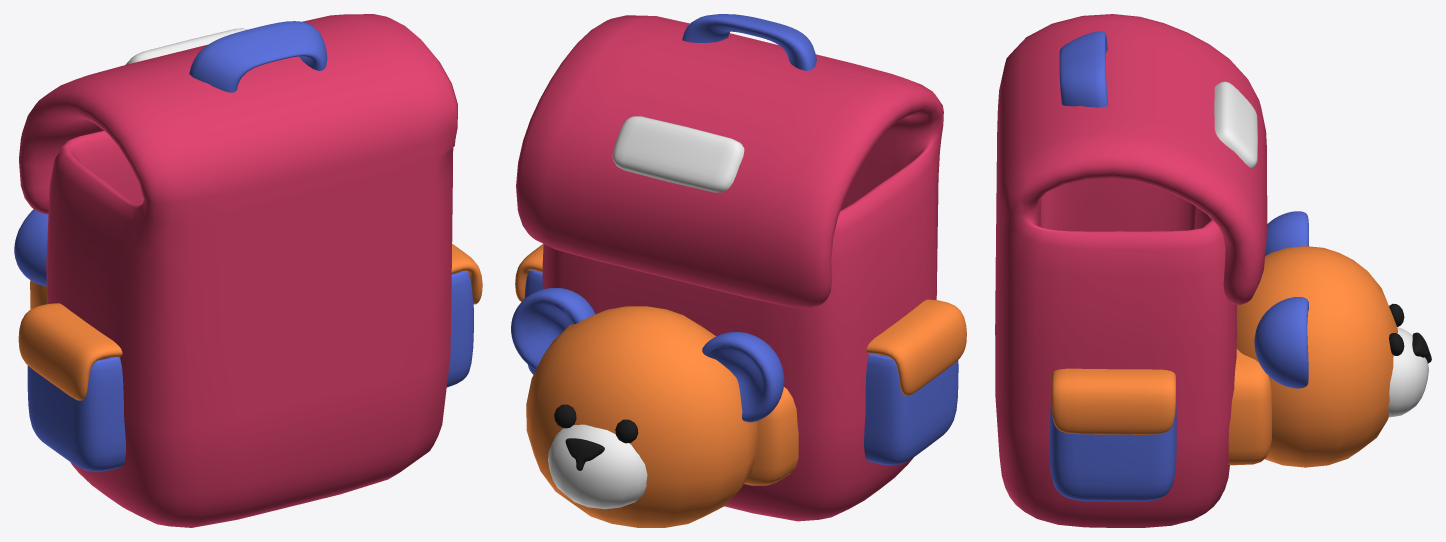
File: Player_Backpag.fbx
3 views of the same model, side by side, from view 1: azimuth 30°, elevation 25°; view 2: azimuth 150°, elevation 25°; view 3: azimuth 270°, elevation 25° (orthographic). The views are drawn at different scales.
Visible parts, largest first — view 1: Player_Backpag; view 2: Player_Backpag; view 3: Player_Backpag.
Part boxes in pixels (x1,y1,x2,y2): Player_Backpag: [14, 14, 482, 527]; Player_Backpag: [511, 14, 966, 527]; Player_Backpag: [995, 14, 1431, 527].
Size of the model in its own units: 1.15 by 1.25 by 1.13.
